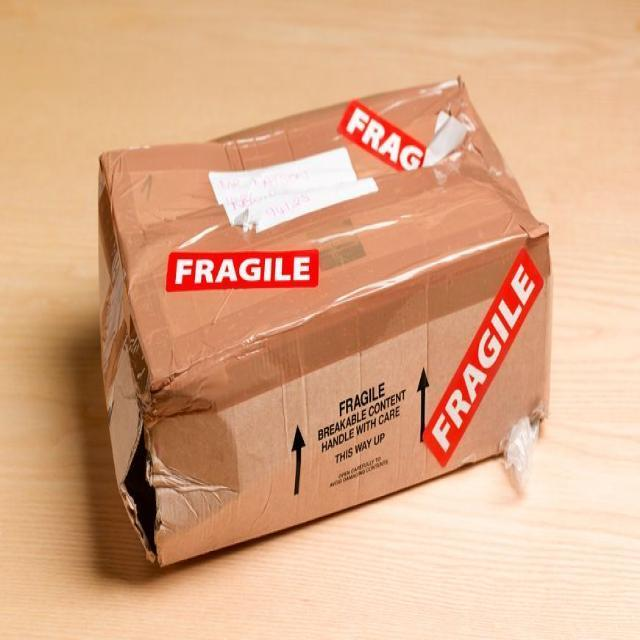hole: (122, 413, 172, 559)
